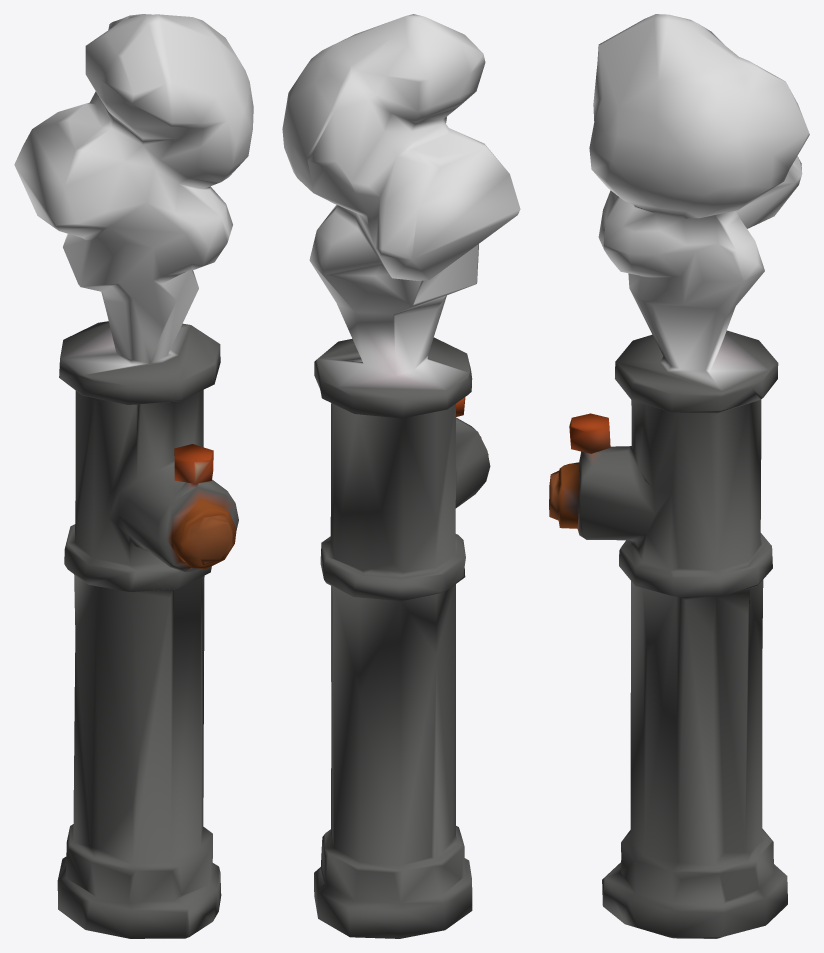
File: gen3d-steam-pipe-lod1.glb
The picture shows the model from 3 angles, left to right: view 1: azimuth 30°, elevation 25°; view 2: azimuth 150°, elevation 25°; view 3: azimuth 270°, elevation 25°; orthographic projection. The views are drawn at different scales.
Visible parts, largest first — view 1: part_0; view 2: part_0; view 3: part_0.
Part boxes in pixels (x1,y1,x2,y2): part_0: [14, 14, 253, 938]; part_0: [282, 14, 520, 938]; part_0: [549, 14, 809, 938].
Size of the model in its own units: 0.2425 by 0.9966 by 0.2652.
